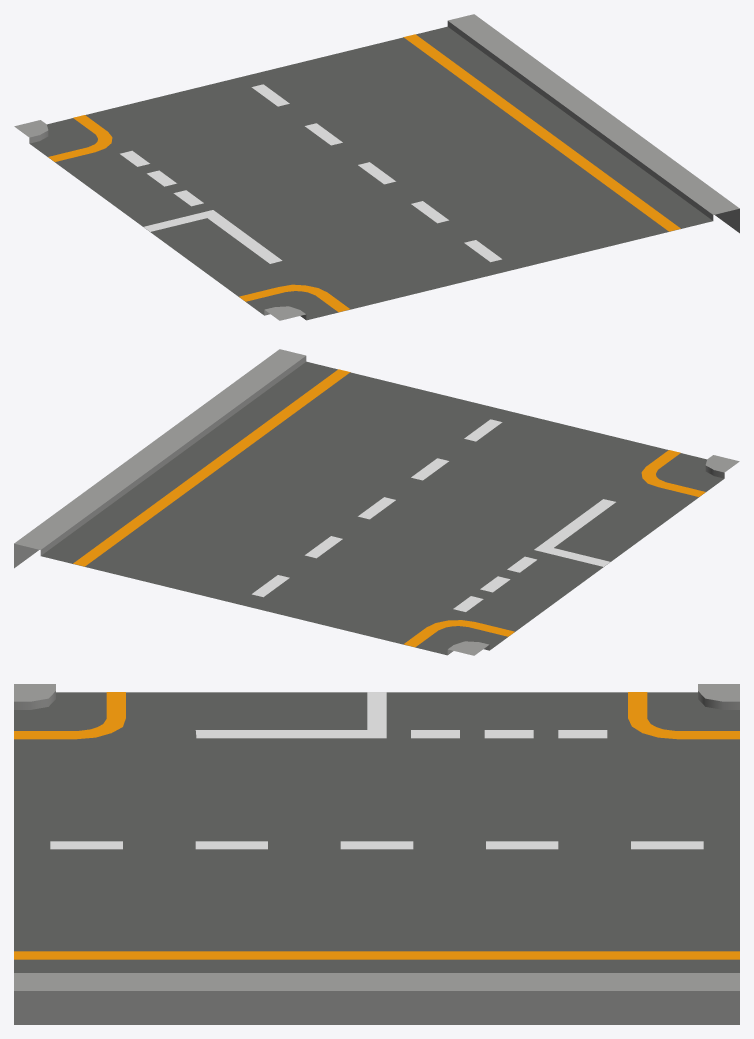
File: Road_B_6.fbx
3 views of the same model, one above another, from view 1: azimuth 30°, elevation 25°; view 2: azimuth 150°, elevation 25°; view 3: azimuth 270°, elevation 25° (orthographic). The views are drawn at different scales.
Parts seen in each view (by area): view 1: Road_B_6; view 2: Road_B_6; view 3: Road_B_6.
Part boxes in pixels (x1=…): Road_B_6: x1=14, y1=14, x2=739, y2=320; Road_B_6: x1=14, y1=349, x2=739, y2=655; Road_B_6: x1=14, y1=684, x2=739, y2=1024.
Bounding box in the file's own units: 800 × 41.48 × 800.
